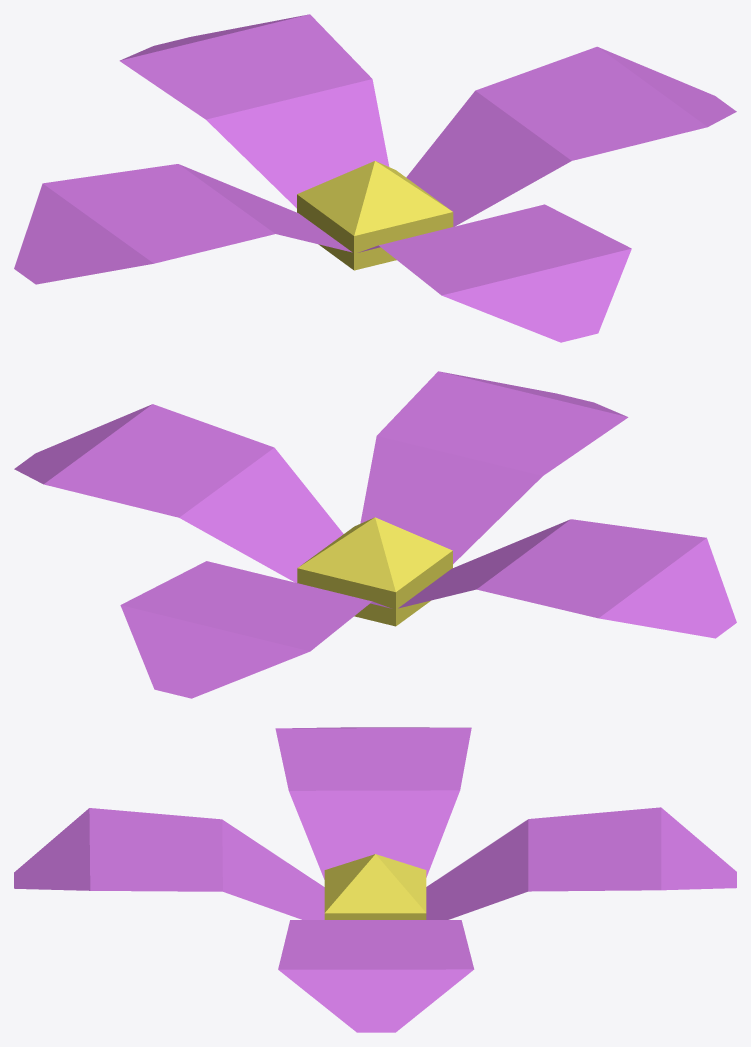
The model's file is Flower_Purple_4.fbx.
3 renders of one model, top to bottom at view 1: azimuth 30°, elevation 25°; view 2: azimuth 150°, elevation 25°; view 3: azimuth 270°, elevation 25°, orthographic. The views are drawn at different scales.
Parts seen in each view (by area): view 1: Flower_Purple_4; view 2: Flower_Purple_4; view 3: Flower_Purple_4.
Part boxes in pixels (x1,y1,x2,y2): Flower_Purple_4: (14, 14, 736, 342); Flower_Purple_4: (14, 371, 736, 698); Flower_Purple_4: (14, 727, 736, 1032).
Size of the model in its own units: 35.83 by 4.02 by 35.83.
